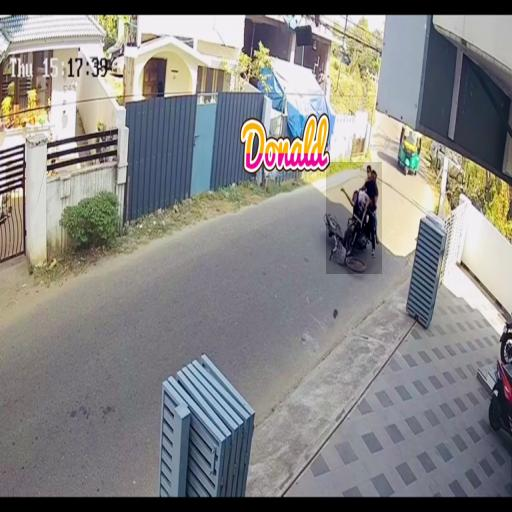小汽车: (398, 124, 424, 174)
自行车撞自行车: (326, 162, 382, 274)
